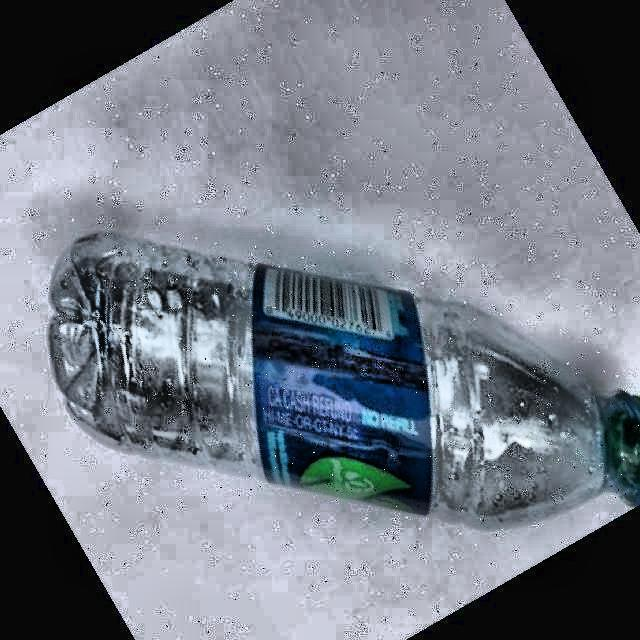plastic: (49, 234, 640, 527)
